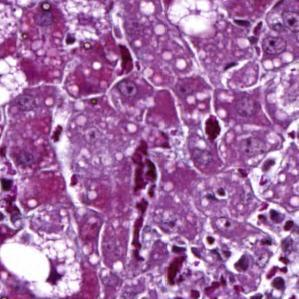ballooning: (4, 227, 83, 296), (164, 3, 224, 41), (4, 53, 29, 105)
